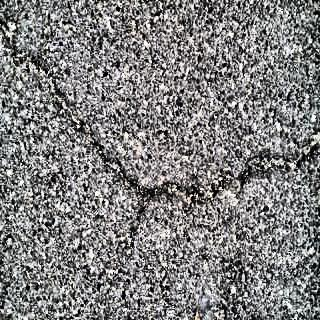crack: (4, 19, 318, 222)
